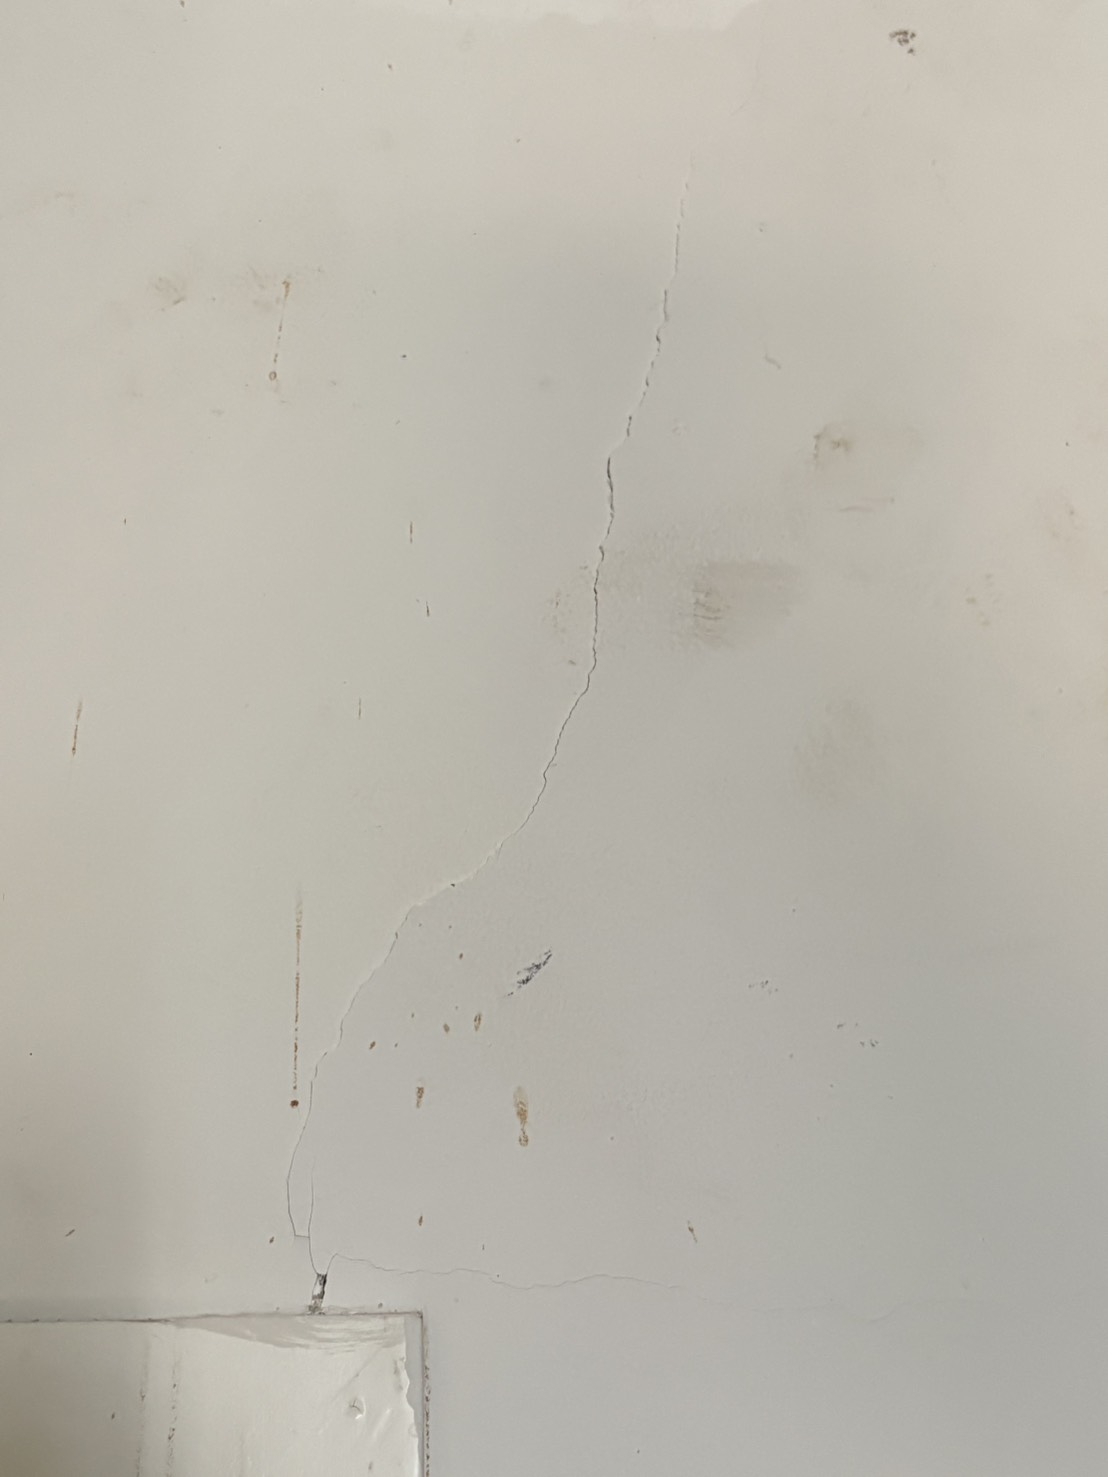Low: (296, 58, 805, 1316)
